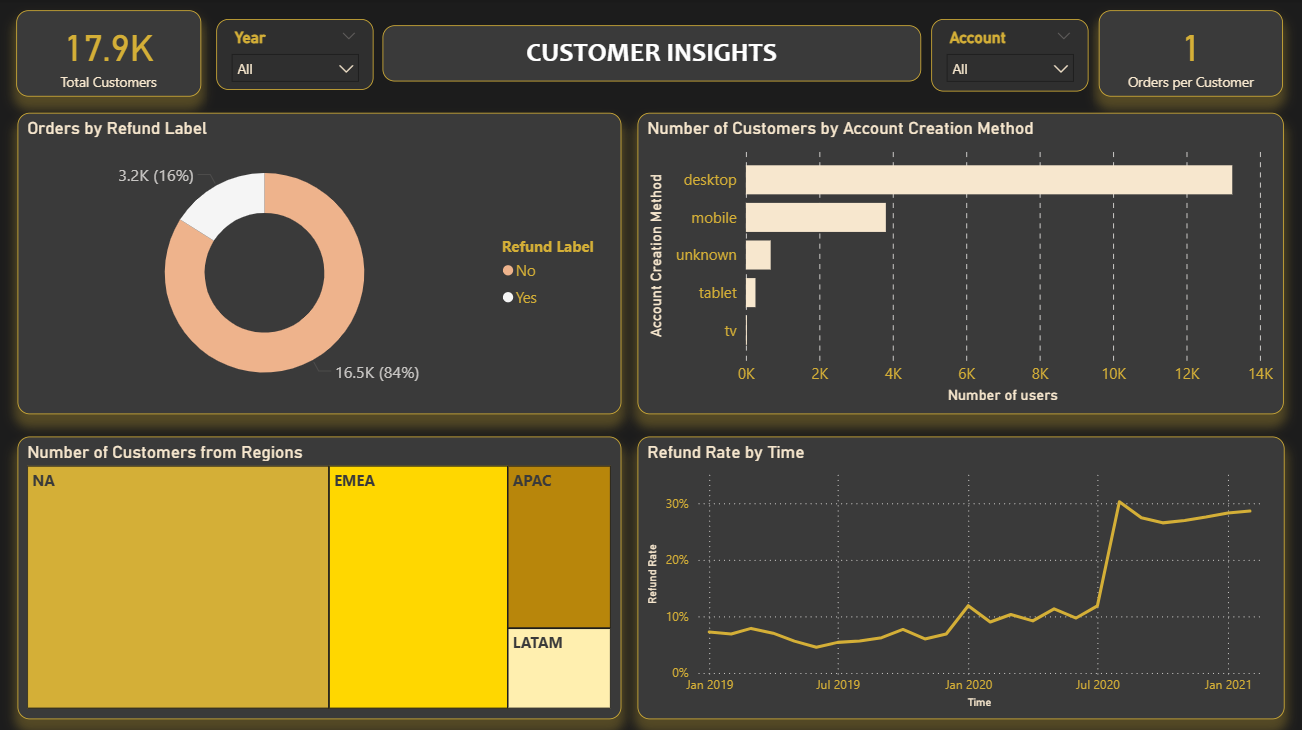

Layout of this report page (visuals, bound fields, positions):
{"tool":"powerbi","page":{"name":"Customer","canvas":[1280,720],"ordinal":2},"visuals":[{"type":"textbox","box":[375.5,25.8,528.8,55.2],"z":0},{"type":"card","fields":{"Values":["Count(orders.USER_ID)"]},"box":[16,11,181.6,84.7],"z":1000},{"type":"card","fields":{"Values":["orders.Orders per Customer"]},"box":[1078.5,11,181,84.7],"z":2000},{"type":"treemap","title":"Number of Customers from Regions","fields":{"Values":["Count(orders.USER_ID)"],"Group":["region.REGION"]},"box":[17.2,429.5,592.6,277.3],"z":3000},{"type":"donutChart","title":"Orders by Refund Label","fields":{"Category":["orders.Refund Label"],"Y":["Count(orders.ORDER_ID)"]},"box":[17.2,111.7,592.6,295.7],"z":4000},{"type":"lineChart","title":"Refund Rate by Time","fields":{"Category":["Date Table.Year-Month"],"Y":["orders.Refund_rate"]},"box":[625.8,429.5,635.6,277.3],"z":5000},{"type":"barChart","title":"Number of Customers by Account Creation Method","fields":{"Category":["orders.ACCOUNT_CREATION_METHOD"],"Y":["Count(orders.USER_ID)"]},"box":[625.8,111.7,634.4,295.7],"z":6000},{"type":"slicer","fields":{"Values":["Date Table.Year"]},"box":[212.3,19.6,154.6,69.9],"z":7000},{"type":"slicer","fields":{"Values":["orders.ACCOUNT_CREATION_METHOD"]},"box":[914.1,19.5,154.4,71],"z":10000}]}

Visuals, with their boxes in screenshot pixels (x1, y1, x2, y2), scaled from the page's 1280x720 canvas onto the 1302x730 screenshot:
textbox: (left=382, top=26, right=920, bottom=82)
card - Count(orders.USER_ID): (left=16, top=11, right=201, bottom=97)
card - orders.Orders per Customer: (left=1097, top=11, right=1281, bottom=97)
"Number of Customers from Regions" treemap: (left=17, top=435, right=620, bottom=717)
"Orders by Refund Label" donutChart: (left=17, top=113, right=620, bottom=413)
"Refund Rate by Time" lineChart: (left=637, top=435, right=1283, bottom=717)
"Number of Customers by Account Creation Method" barChart: (left=637, top=113, right=1282, bottom=413)
slicer - Date Table.Year: (left=216, top=20, right=373, bottom=91)
slicer - orders.ACCOUNT_CREATION_METHOD: (left=930, top=20, right=1087, bottom=92)
